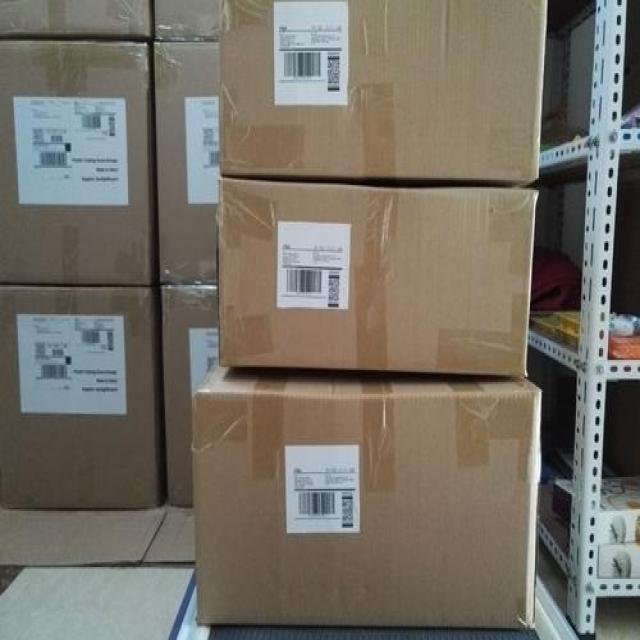box: (192, 356, 540, 632), (216, 178, 539, 377), (218, 0, 549, 180), (0, 41, 154, 284), (0, 285, 163, 511), (152, 41, 218, 285), (163, 284, 218, 508), (1, 0, 154, 37), (599, 475, 640, 545), (155, 0, 219, 39), (598, 543, 640, 577), (553, 479, 571, 526)
